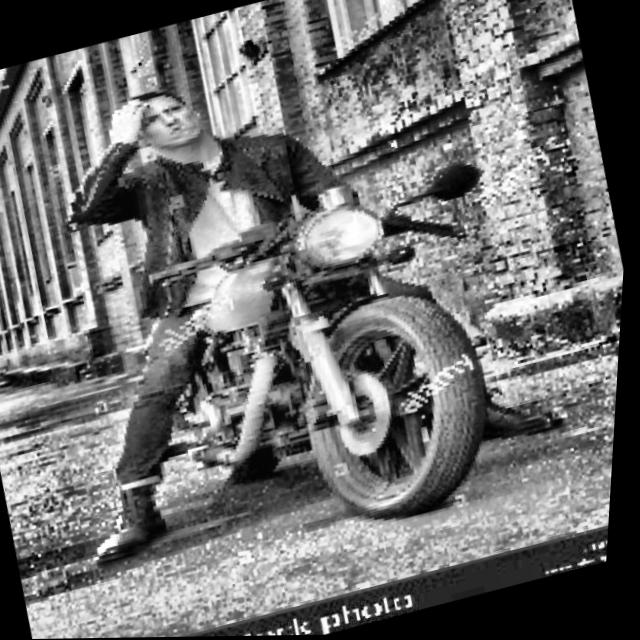motorcycle: (111, 138, 558, 574)
